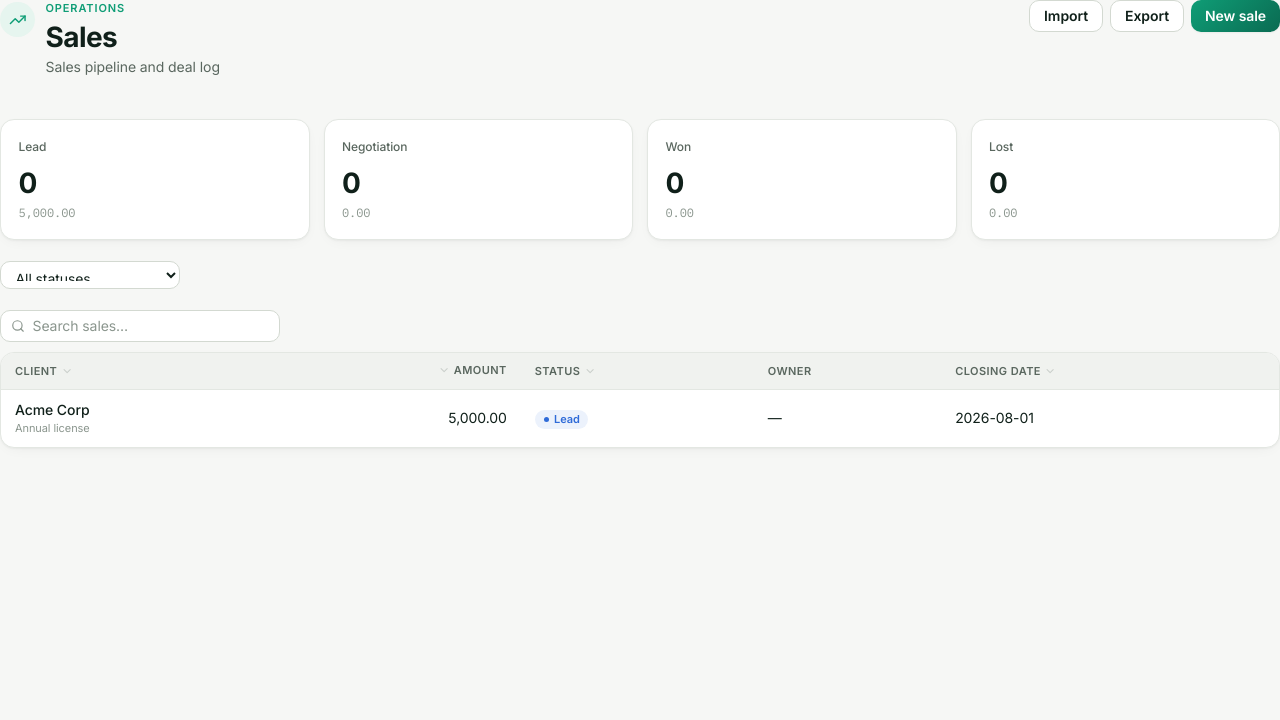
SalesPage — manager › shows the owner picker in the create form
Expected: the text "Acme Corp" is shown, [15,401,90,418]
Click the button "New sale": [1236, 16] box [1191,0,1279,32]
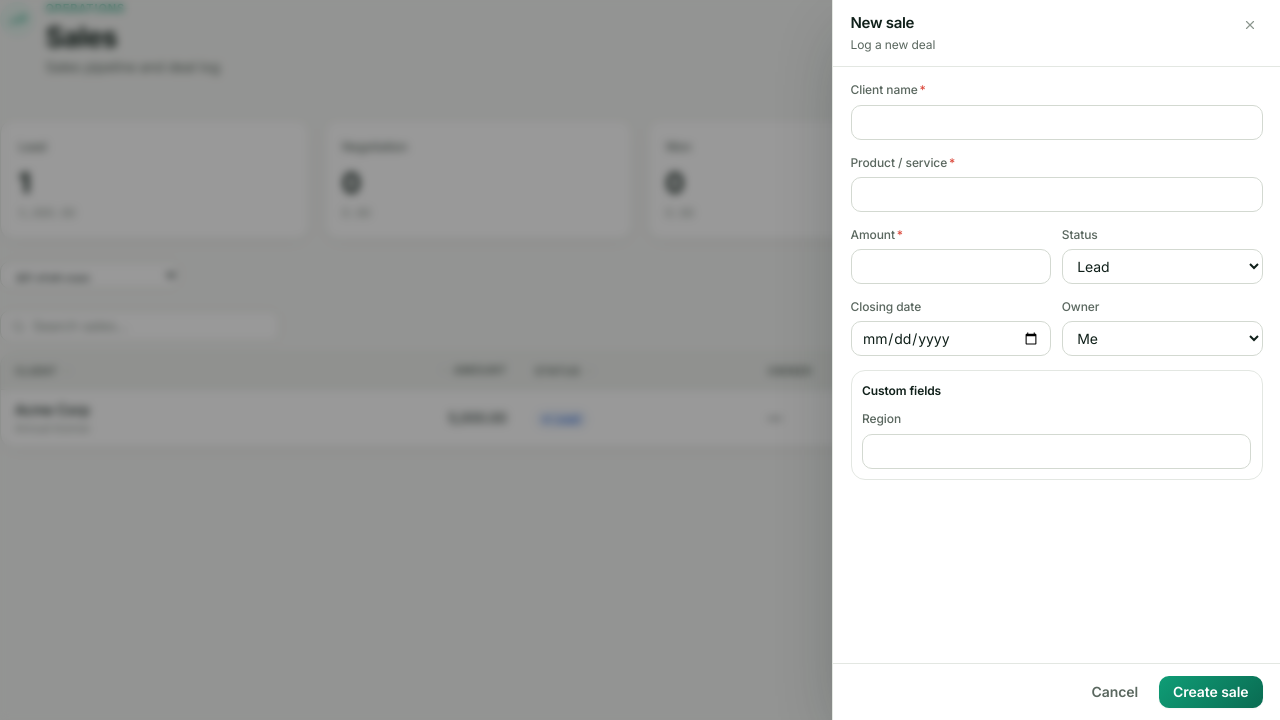
Now the text "Owner" is shown, box [1062,299,1099,314]
